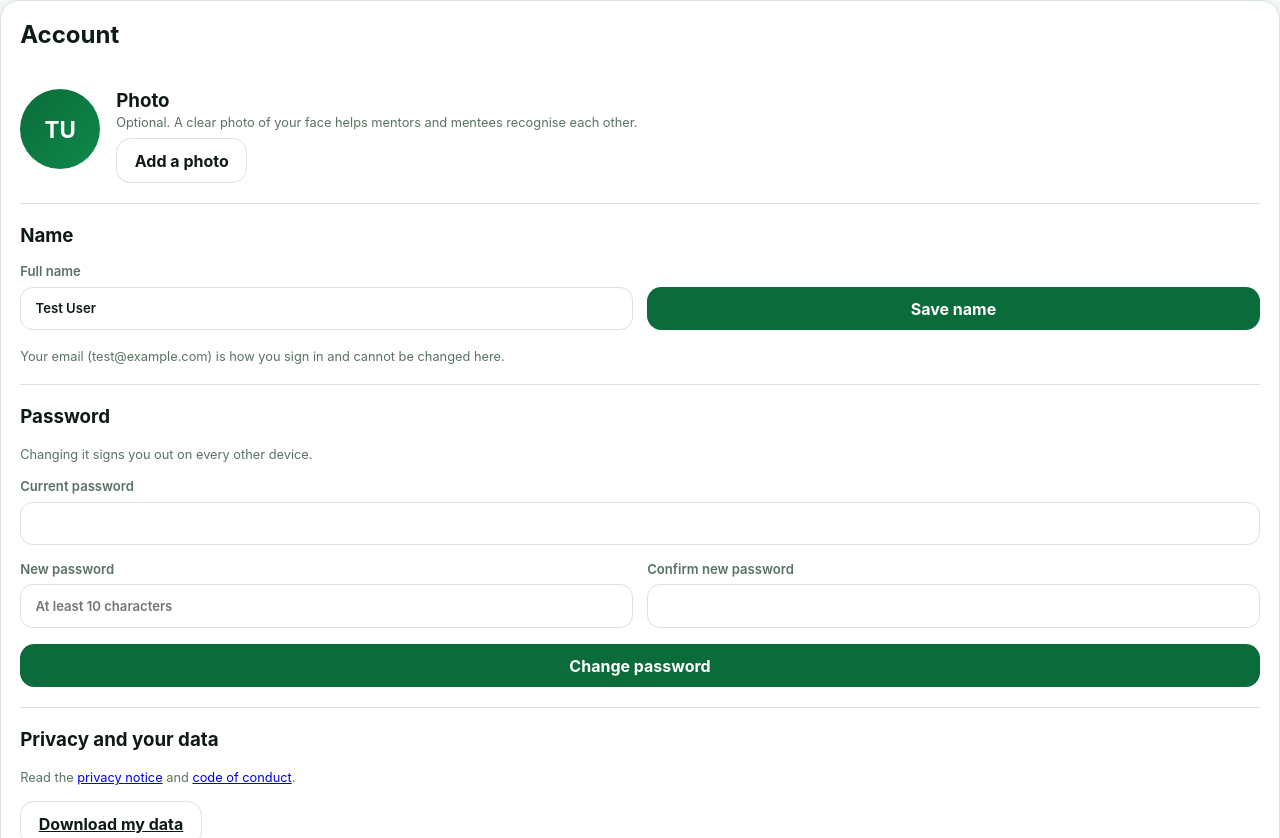
Scenario: AccountSettings › renames, and refuses a password confirmation that does not match
Step 1. Replace the text in the field labelled "Full name" with "Kevin O. Otieno" → (326, 308), box [20, 286, 633, 330]
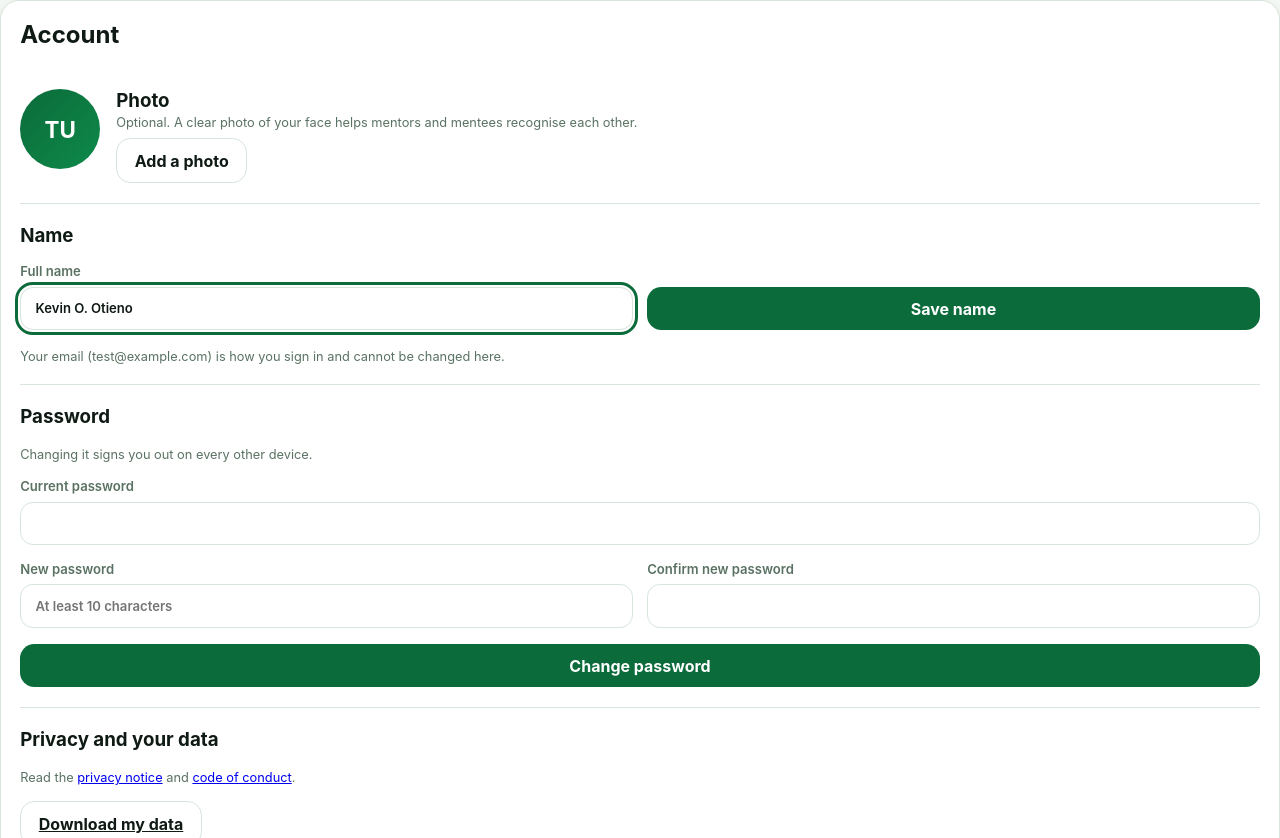
Step 2. Click the button "Save name" → (954, 309), box [647, 287, 1260, 330]
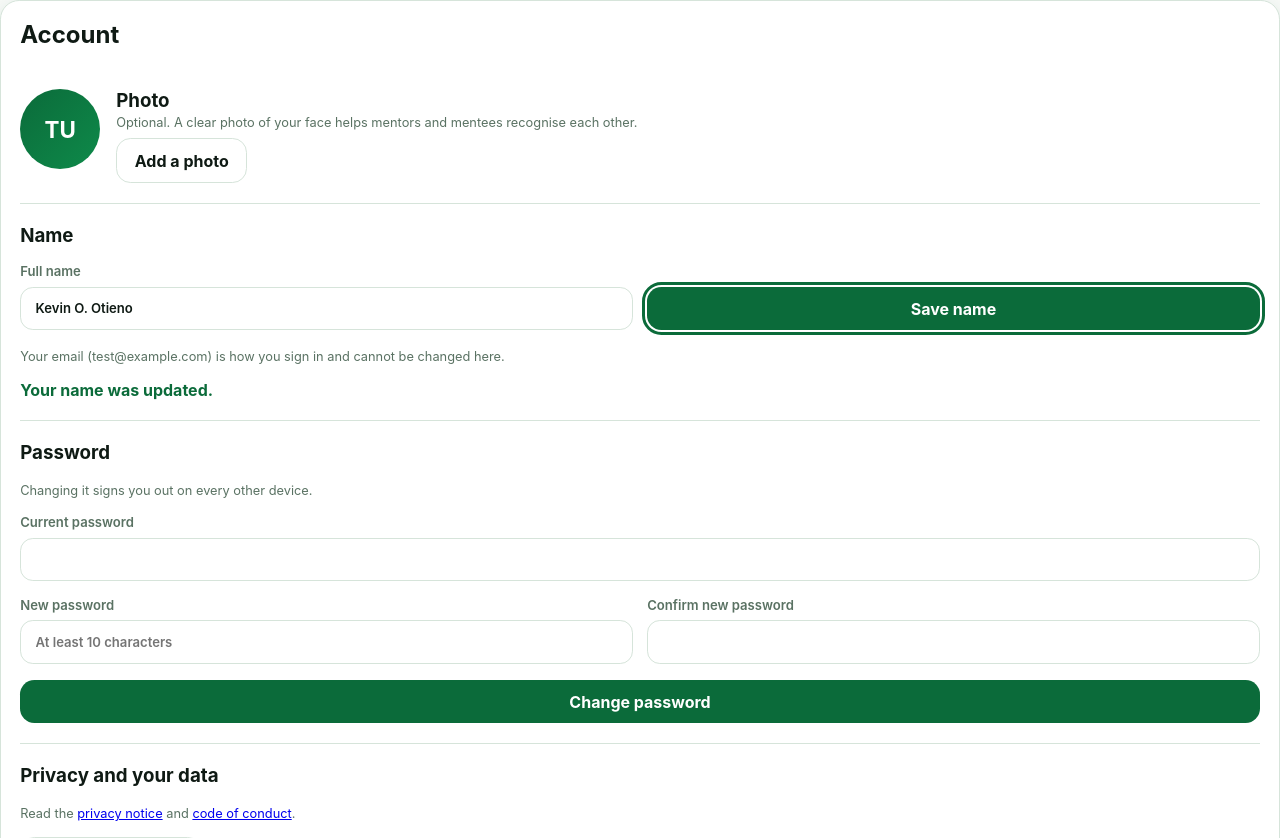
Step 3. Type "a-brand-new-password" into the password field labelled "New password" → (326, 642), box [20, 620, 633, 664]
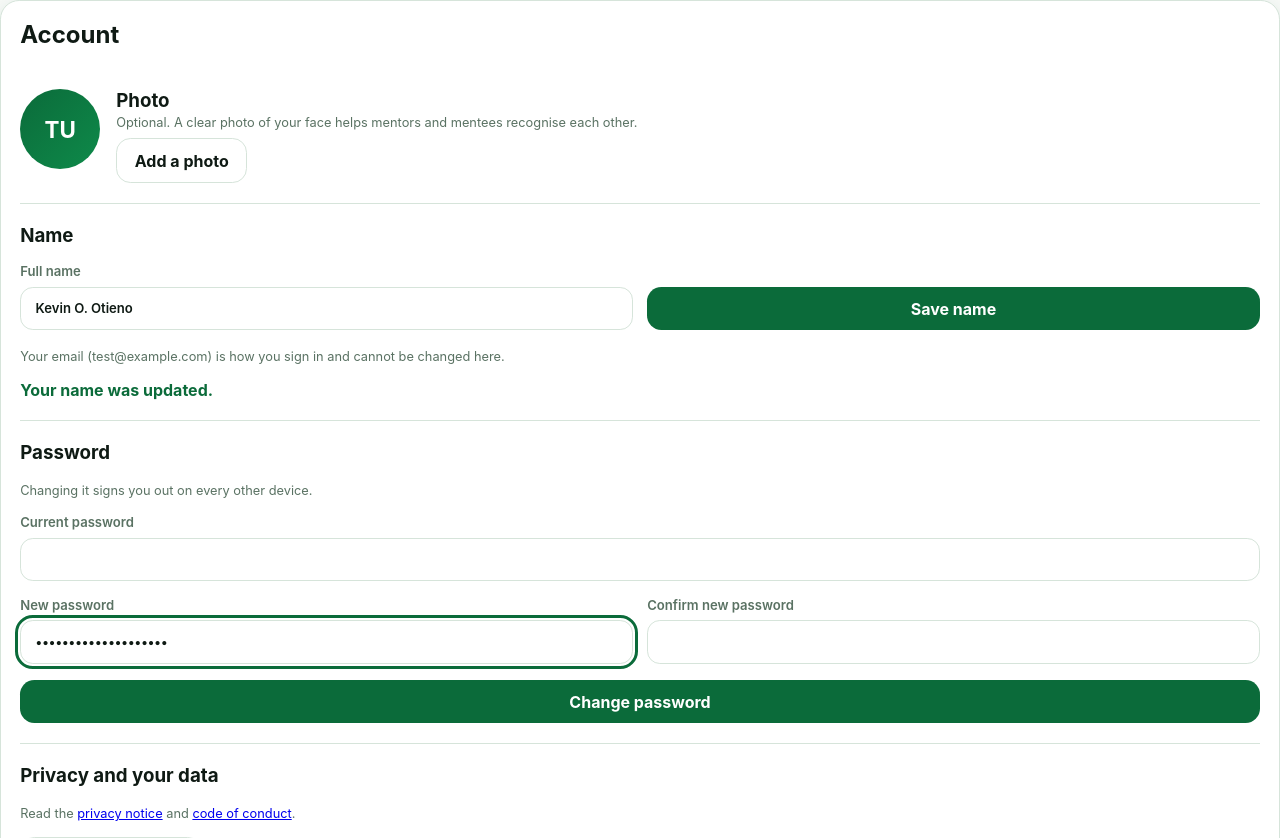
Step 4. Type "something-else-entirely" into the password field labelled "Confirm new password" → (954, 642), box [647, 620, 1260, 664]
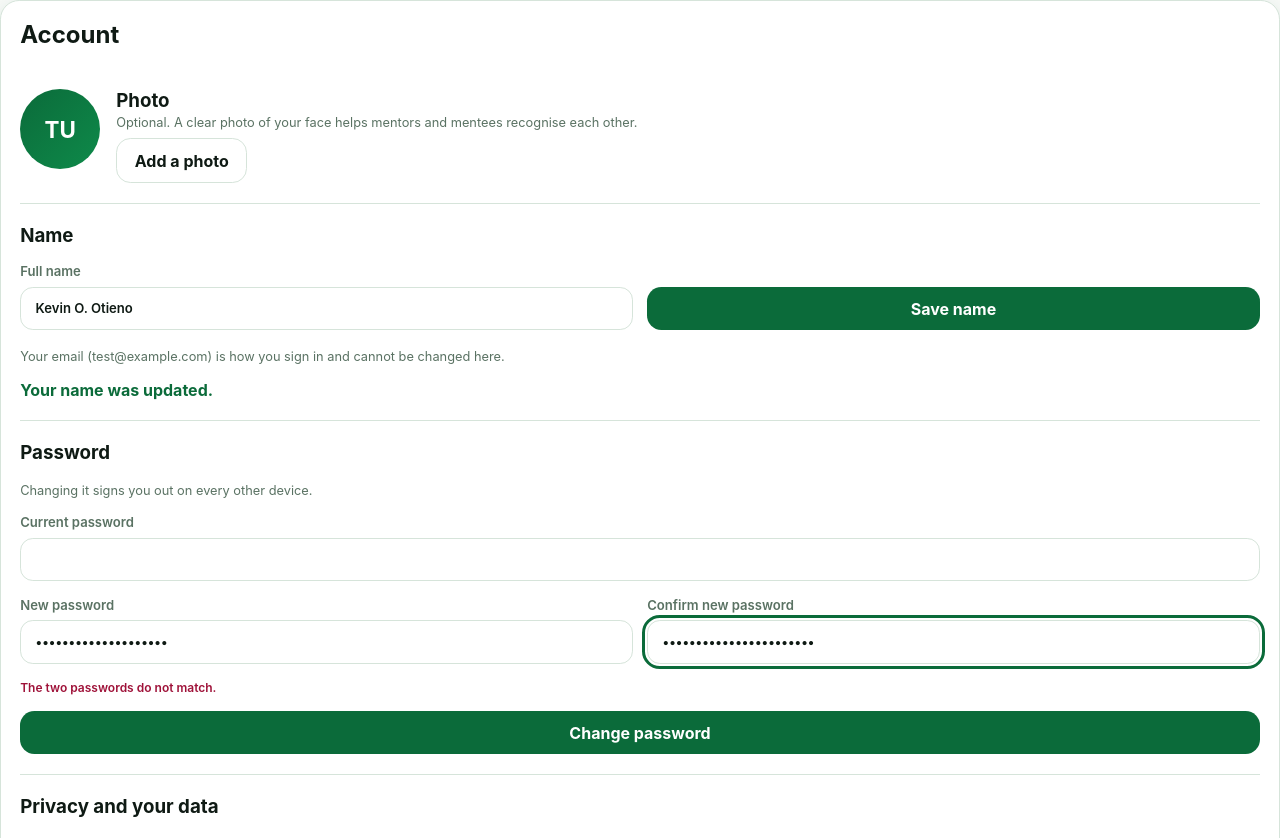
Now the text "The two passwords do not match." is shown, box [20, 680, 216, 695]
Now the button "Change password" is disabled, box [20, 711, 1260, 754]
